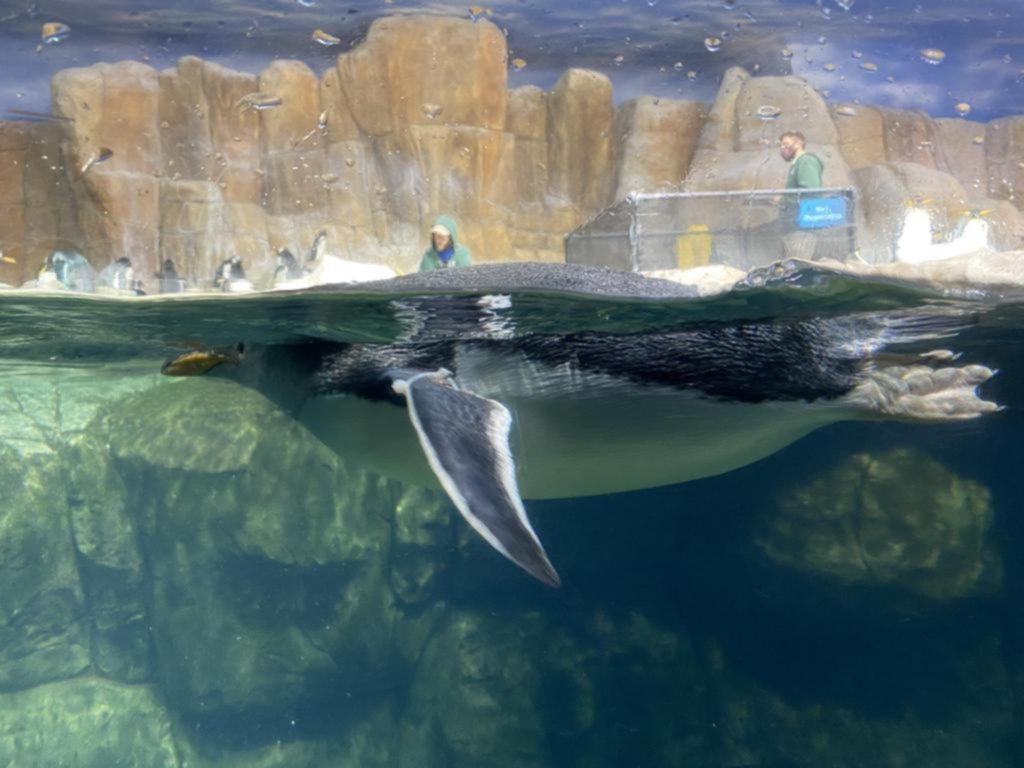penguin: (162, 294, 1006, 588), (890, 198, 932, 264), (954, 206, 994, 250), (59, 250, 93, 294), (271, 248, 303, 284), (103, 254, 133, 292), (154, 257, 186, 291), (215, 254, 243, 292), (310, 228, 328, 260), (39, 254, 57, 284)
